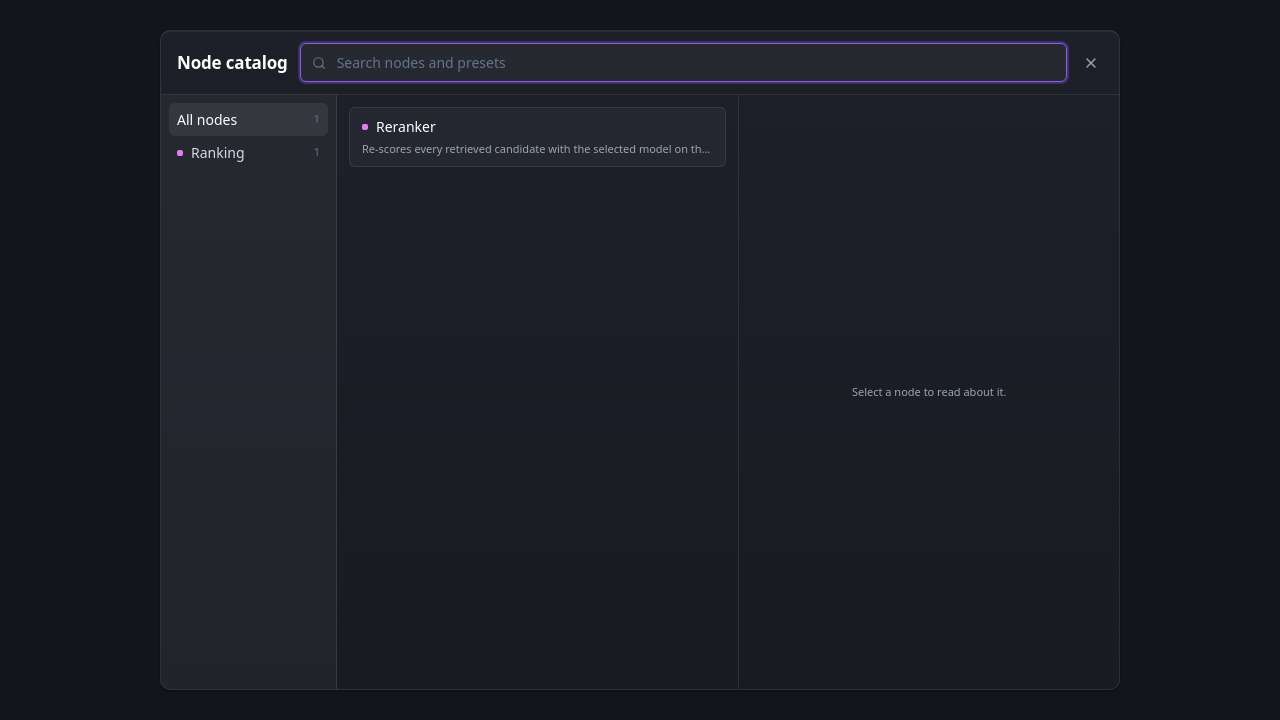
Scenario: NodeCatalogOverlay › disables adding a reranker without a reranking provider
Click the button "Reranker" at (406, 126), box [349,107,726,166]
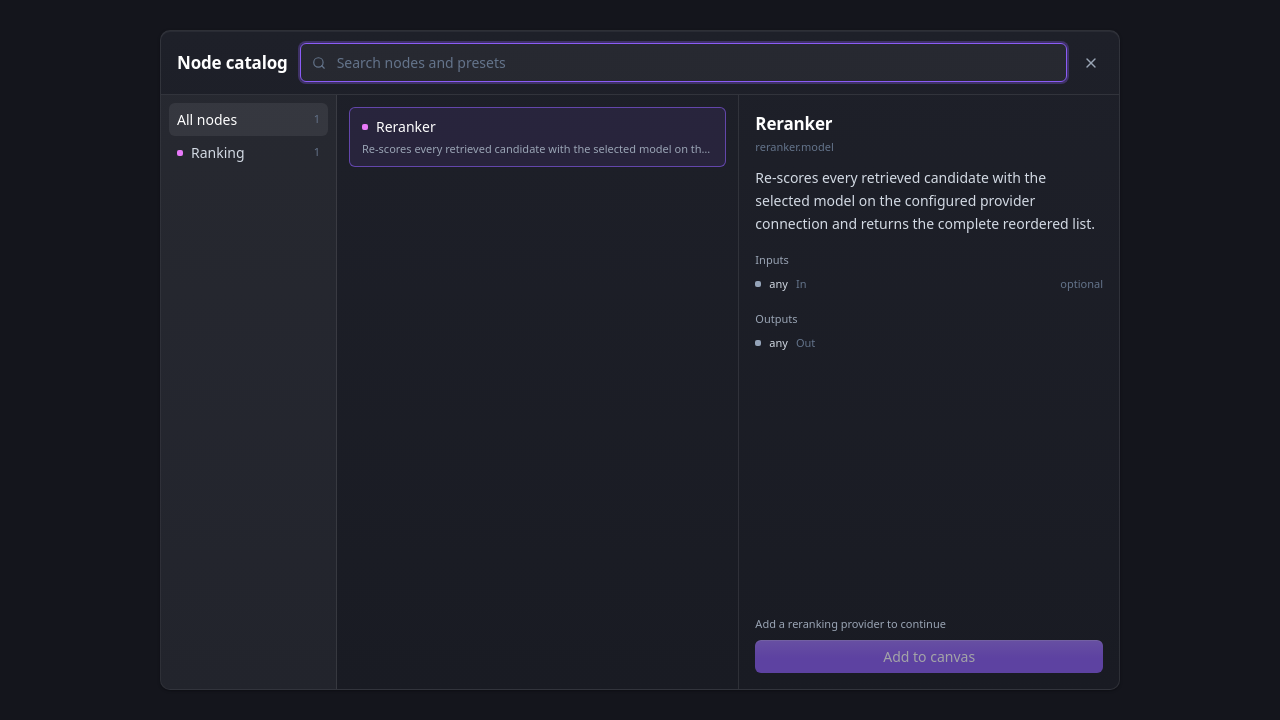
expect the button "Add to canvas" is disabled: met, box [755,640,1103,673]
expect the text "Add a reranking provider to continue" is shown: met, box [755,616,946,630]
